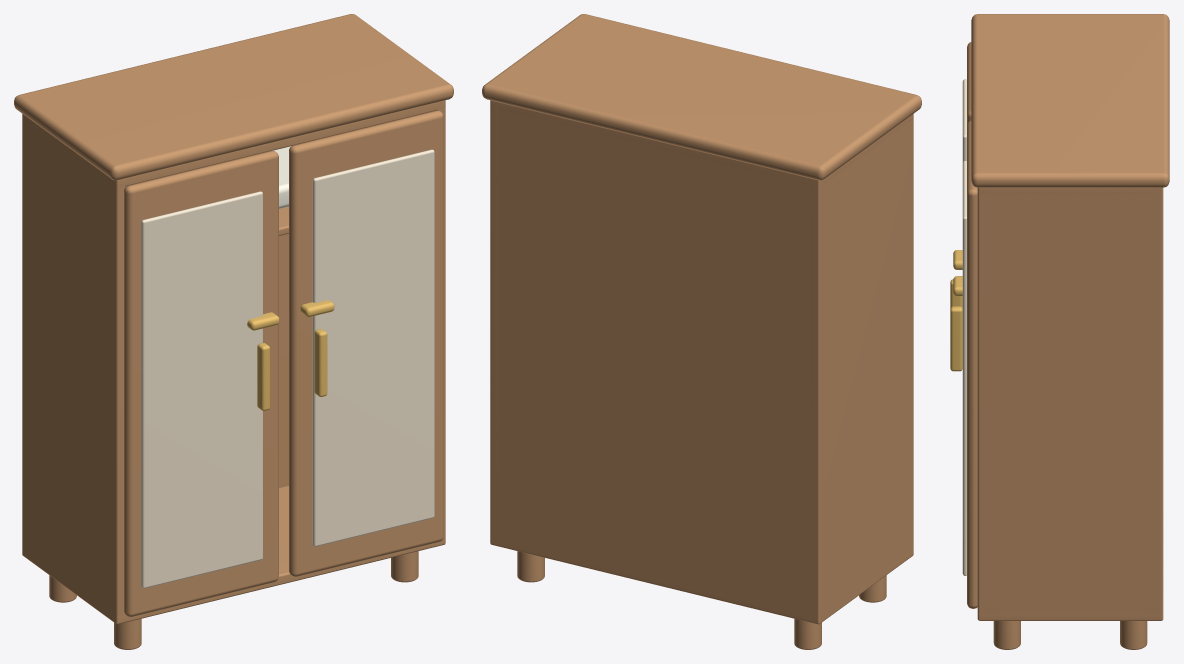
Rendered from bedroomWardrobe.glb.
3 renders of one model, left to right at view 1: azimuth 30°, elevation 25°; view 2: azimuth 150°, elevation 25°; view 3: azimuth 270°, elevation 25°, orthographic. The views are drawn at different scales.
Parts seen in each view (by area): view 1: Storage inner side, Inset oak panel, Inset oak panel.001, Rounded cabinet top, Cabinet door.001, Cabinet door, Storage inner floor.001, Storage inner back, Storage inner floor, Storage inner side.001, Wardrobe door handle, Wardrobe door handle.001 (+3 smaller); view 2: Storage inner back, Storage inner side, Rounded cabinet top, Storage inner side.001, Storage inner floor.001, Storage inner floor, Furniture foot.001, Furniture foot.003; view 3: Storage inner side.001, Rounded cabinet top, Cabinet door.001, Storage inner back, Inset oak panel.001, Storage inner floor.001, Storage inner floor, Wardrobe door handle.001, Furniture foot.002, Furniture foot.003, Inset oak panel, Cabinet door.
Boxes of the visible parts, left/top/right/bottom form: Storage inner side: left=22, top=114, right=125, bottom=624; Inset oak panel: left=141, top=191, right=262, bottom=588; Inset oak panel.001: left=312, top=149, right=434, bottom=546; Rounded cabinet top: left=14, top=14, right=453, bottom=180; Cabinet door.001: left=289, top=110, right=443, bottom=576; Cabinet door: left=124, top=150, right=278, bottom=616; Storage inner floor.001: left=23, top=100, right=445, bottom=187; Storage inner back: left=23, top=117, right=288, bottom=487; Storage inner floor: left=117, top=486, right=445, bottom=624; Storage inner side.001: left=437, top=101, right=445, bottom=545; Wardrobe door handle: left=257, top=343, right=270, bottom=410; Wardrobe door handle.001: left=314, top=329, right=327, bottom=396; Storage inner back: left=490, top=100, right=823, bottom=624; Storage inner side: left=811, top=117, right=913, bottom=624; Rounded cabinet top: left=482, top=14, right=921, bottom=180; Storage inner side.001: left=490, top=101, right=497, bottom=545; Storage inner floor.001: left=491, top=100, right=913, bottom=186; Storage inner floor: left=492, top=537, right=913, bottom=623; Furniture foot.001: left=794, top=618, right=821, bottom=649; Furniture foot.003: left=517, top=551, right=544, bottom=582; Storage inner side.001: left=977, top=188, right=1163, bottom=620; Rounded cabinet top: left=971, top=14, right=1169, bottom=187; Cabinet door.001: left=967, top=120, right=977, bottom=608; Storage inner back: left=1154, top=187, right=1163, bottom=620; Inset oak panel.001: left=962, top=160, right=966, bottom=575; Storage inner floor.001: left=977, top=187, right=1162, bottom=194; Storage inner floor: left=978, top=613, right=1162, bottom=620; Wardrobe door handle.001: left=950, top=306, right=962, bottom=371; Furniture foot.002: left=993, top=621, right=1020, bottom=649; Furniture foot.003: left=1120, top=621, right=1147, bottom=649; Inset oak panel: left=962, top=79, right=966, bottom=162; Cabinet door: left=967, top=42, right=971, bottom=124.
Bounding box in the file's own units: 1.56 × 2.16 × 0.885.
